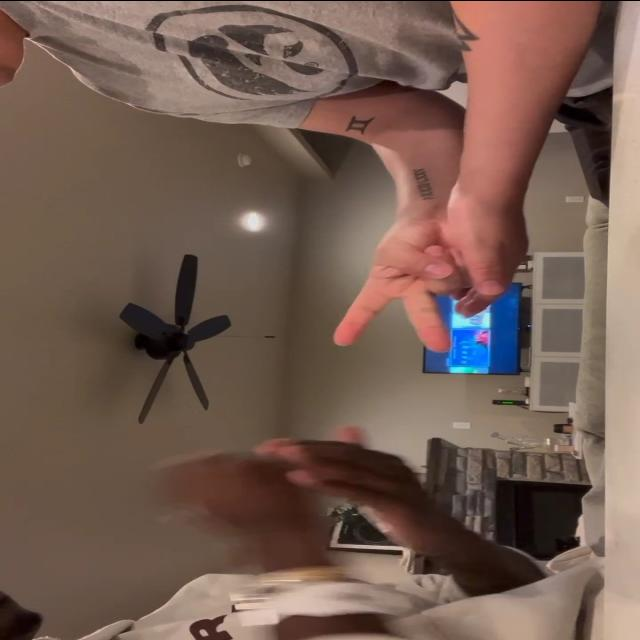Rock: (152, 451, 314, 536)
Scissors: (335, 215, 472, 350)
